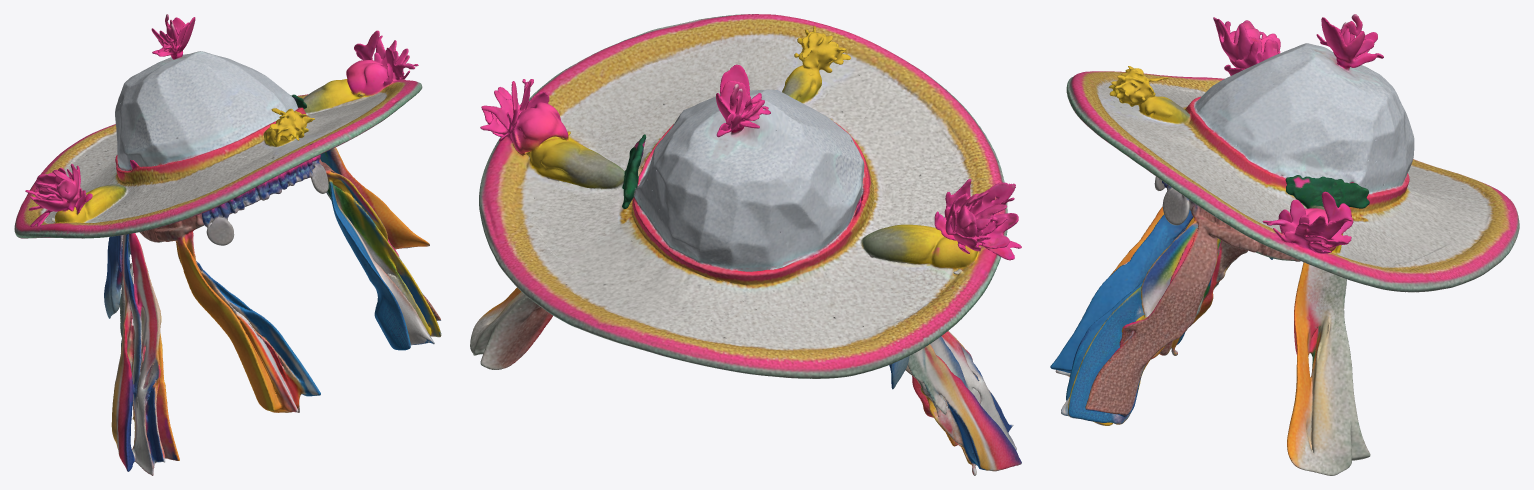
Rendered from sombrerop.glb.
3 views of the same model, side by side, from view 1: azimuth 30°, elevation 25°; view 2: azimuth 150°, elevation 25°; view 3: azimuth 270°, elevation 25° (orthographic). The views are drawn at different scales.
Parts seen in each view (by area): view 1: tripo_node_804ab8a3-324d-4e74-8f2c-55b1fc1d2981; view 2: tripo_node_804ab8a3-324d-4e74-8f2c-55b1fc1d2981; view 3: tripo_node_804ab8a3-324d-4e74-8f2c-55b1fc1d2981.
Part boxes in pixels (x1,y1,x2,y2): tripo_node_804ab8a3-324d-4e74-8f2c-55b1fc1d2981: (14,14,441,475); tripo_node_804ab8a3-324d-4e74-8f2c-55b1fc1d2981: (470,14,1021,475); tripo_node_804ab8a3-324d-4e74-8f2c-55b1fc1d2981: (1050,14,1519,475).
Size of the model in its own units: 0.9936 by 0.8031 by 0.8195.
1 material, 1 textured.
